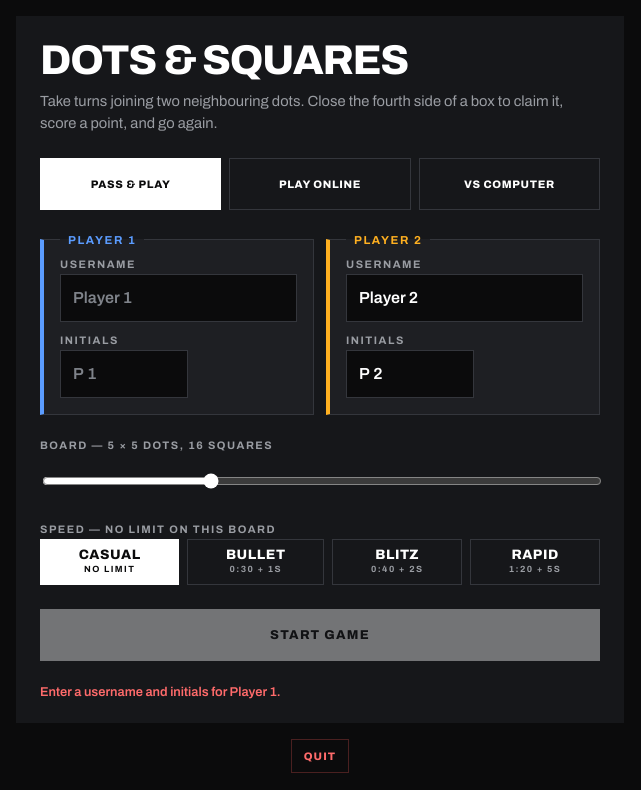
it: setup screen › is ready to start once the first player is filled in
expect the button "Start Game" is disabled: met, box [40,609,600,661]
Step 1. Type "Ada" into the 1st field labelled "Username" → [178, 298], box [60,274,297,322]
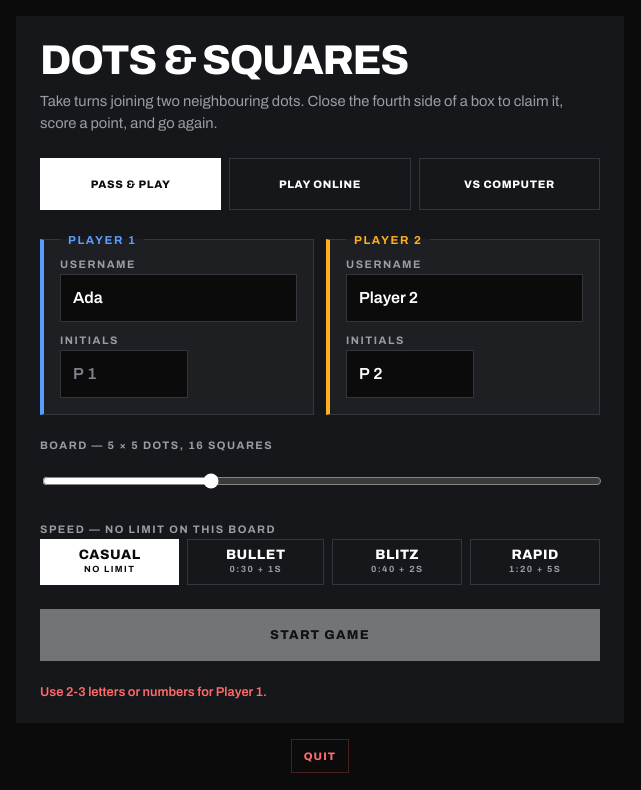
expect the button "Start Game" is disabled: met, box [40,609,600,661]
Step 2. Type "AL" into the 1st field labelled "Initials" → [124, 374], box [60,350,188,398]
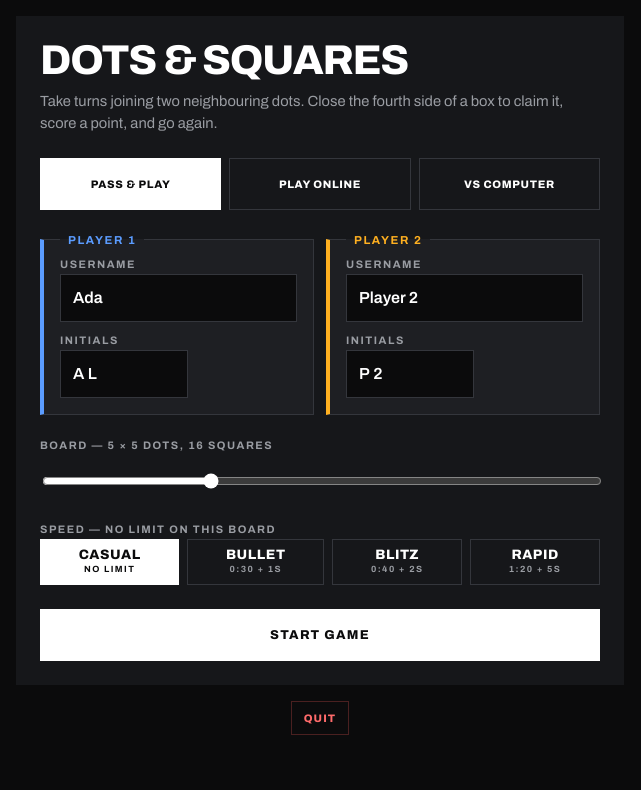
expect the button "Start Game" is enabled: met, box [40,609,600,661]
